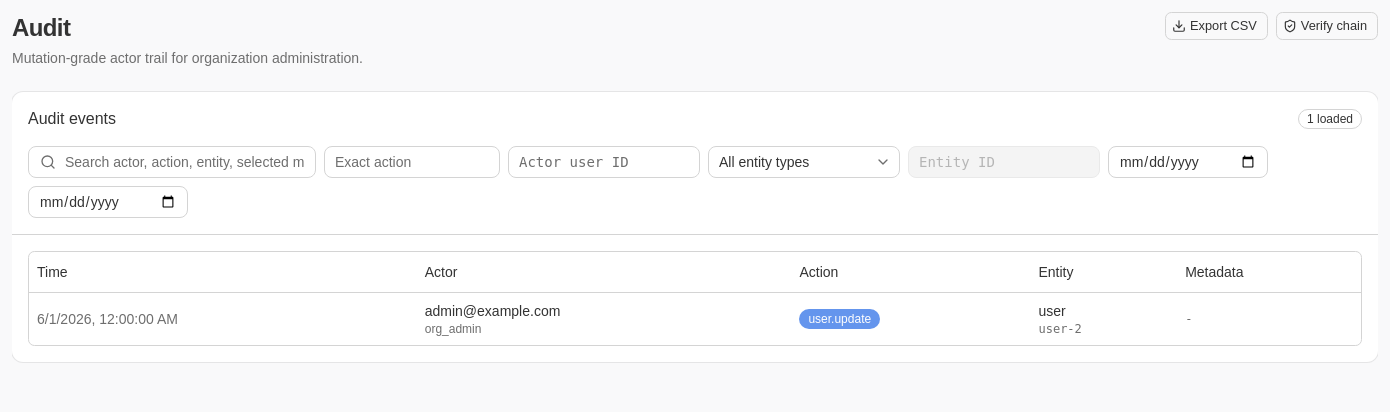
Test: AuditPage › disables loading and shows an invalid date range
Type "2026-06-30" into the date field named "Audit start date" at (1188, 162), box [1108,146,1268,178]
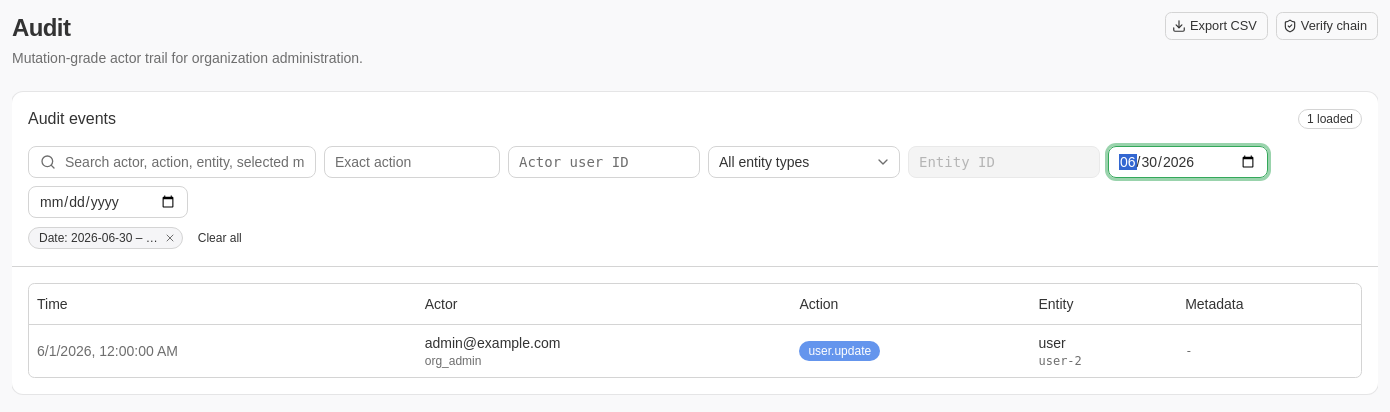
Type "2026-06-01" into the date field named "Audit end date" at (108, 202), box [28,186,188,218]
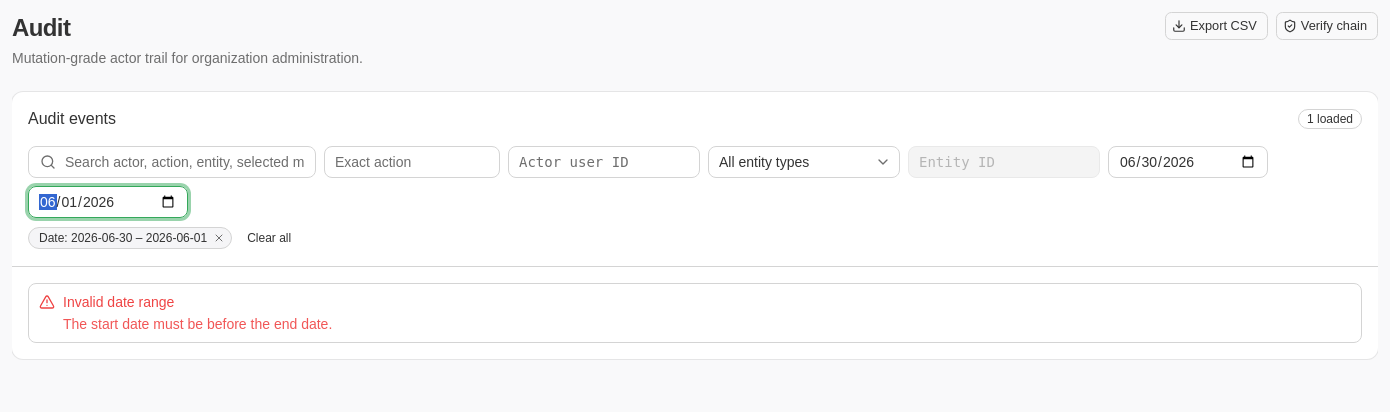
Check: the text "Invalid date range" is shown, box [63,294,174,310]
